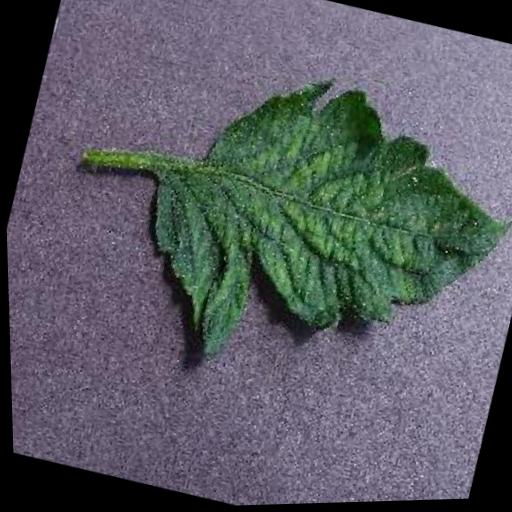Mosaic Virus: (109, 37, 512, 433)
